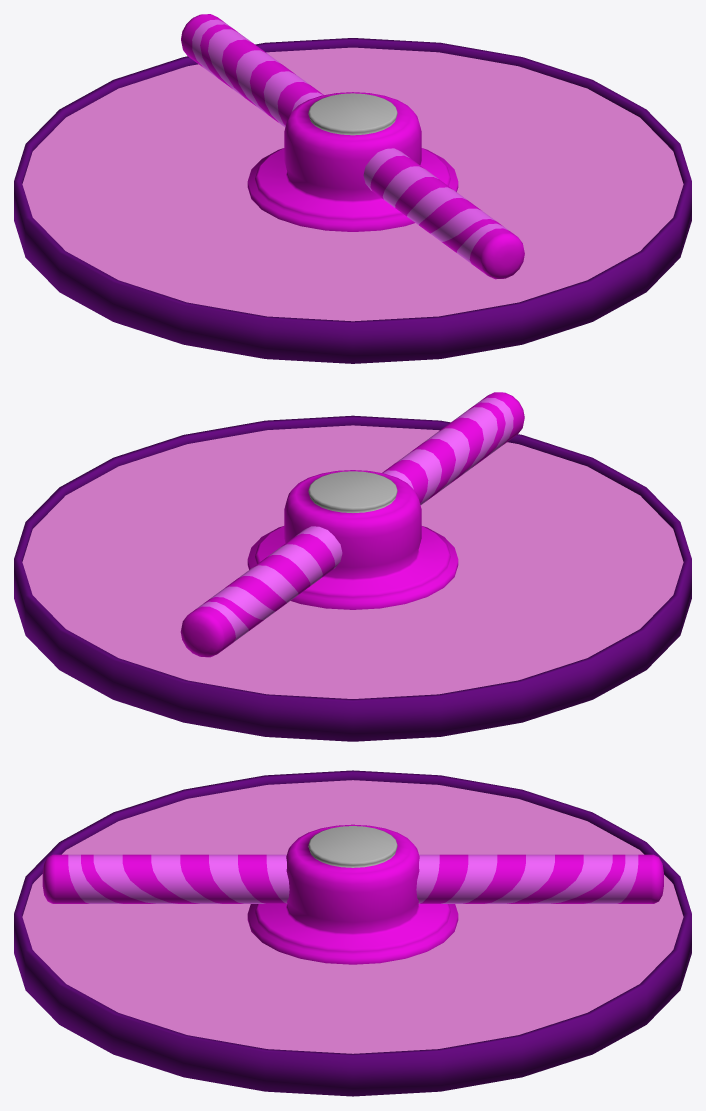
The model's file is donensey.fbx.
3 renders of one model, top to bottom at view 1: azimuth 30°, elevation 25°; view 2: azimuth 150°, elevation 25°; view 3: azimuth 270°, elevation 25°, orthographic.
Parts seen in each view (by area): view 1: Cylinder.003, Cylinder.001, Cylinder.004; view 2: Cylinder.003, Cylinder.001, Cylinder.004; view 3: Cylinder.003, Cylinder.004, Cylinder.001.
Boxes of the visible parts, bbox=[...] form: Cylinder.003: bbox=[14, 38, 691, 363]; Cylinder.001: bbox=[247, 92, 458, 231]; Cylinder.004: bbox=[181, 14, 524, 279]; Cylinder.003: bbox=[14, 415, 691, 741]; Cylinder.001: bbox=[247, 470, 458, 609]; Cylinder.004: bbox=[180, 392, 524, 657]; Cylinder.003: bbox=[14, 770, 691, 1096]; Cylinder.004: bbox=[42, 854, 663, 903]; Cylinder.001: bbox=[247, 824, 458, 964].
Bounding box in the file's own units: 1521 × 1521 × 271.
